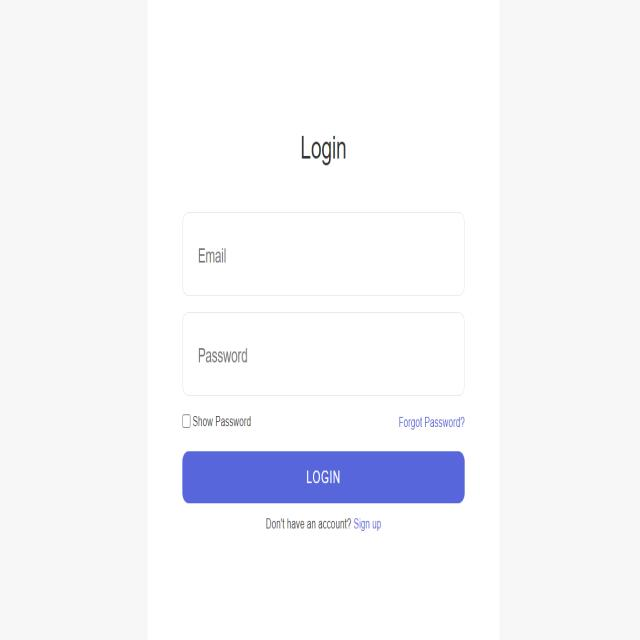buttons: (184, 453, 462, 501), (398, 414, 465, 433), (354, 516, 382, 532)
checkbox: (183, 411, 254, 432)
input-fields: (186, 214, 464, 298), (187, 318, 467, 399)
text: (299, 130, 351, 163)
